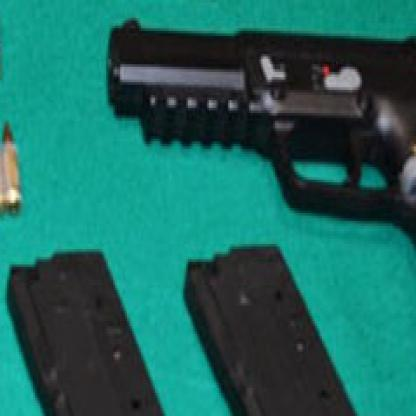gun: (103, 0, 414, 401)
